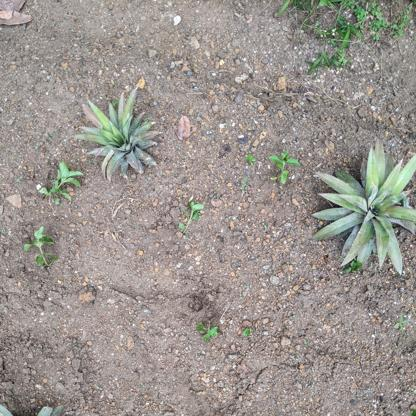pineapple: (312, 142, 416, 280), (71, 85, 161, 182)
weed: (277, 3, 416, 63), (20, 223, 60, 276), (35, 161, 85, 203), (266, 146, 302, 191), (178, 196, 204, 237), (194, 316, 228, 346)
